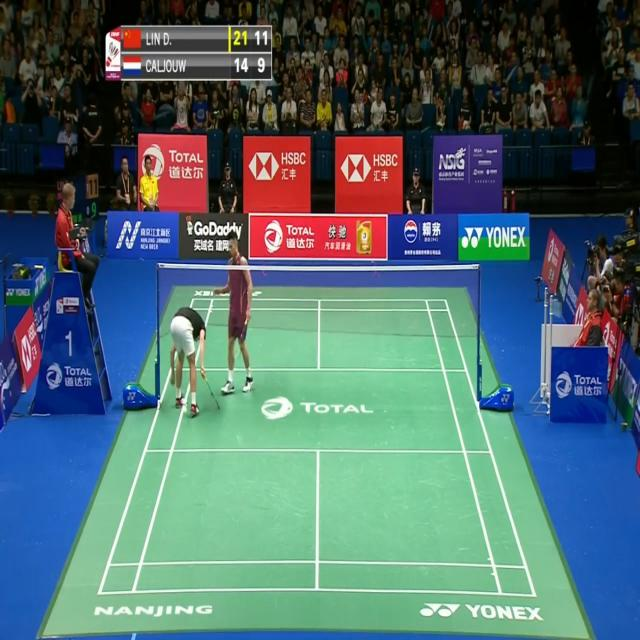Player1: (163, 300, 222, 424)
Player2: (209, 234, 257, 398)
